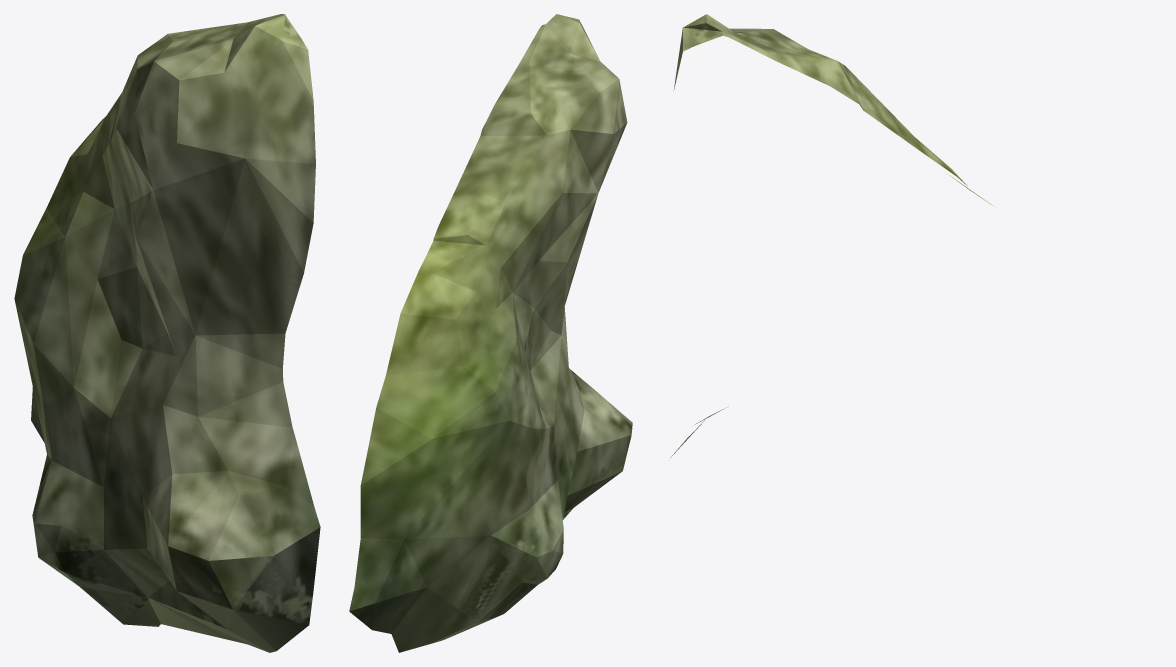
3 views of the same model, side by side, from view 1: azimuth 30°, elevation 25°; view 2: azimuth 150°, elevation 25°; view 3: azimuth 270°, elevation 25° (orthographic). The views are drawn at different scales.
Size of the model in its own units: 0.4553 by 2.34 by 1.7.
1 material, 1 textured.
